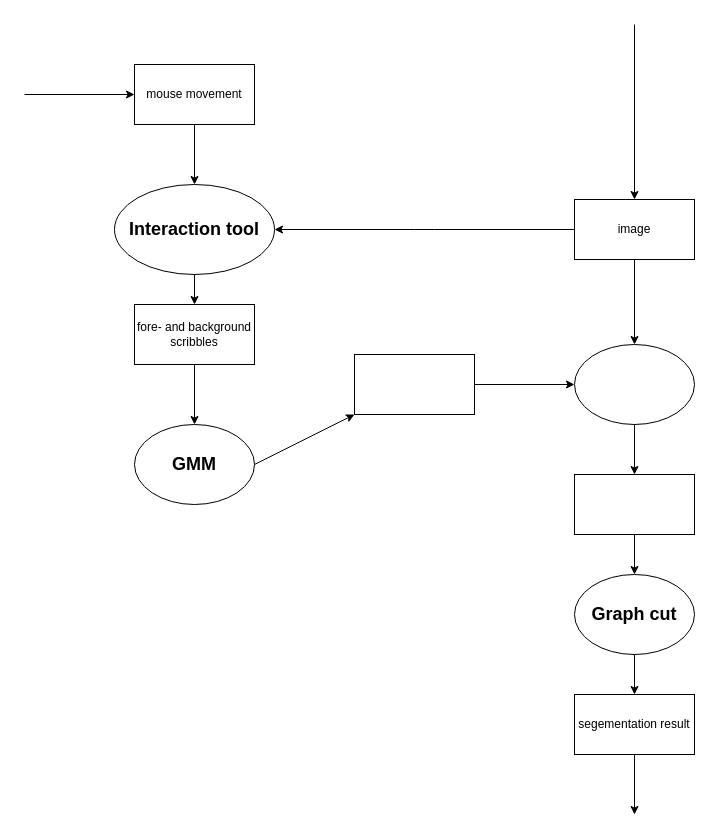
Some shapes in this 712 by 840 pixel diagram are drawn without their labels. The shapes that lost their labels are listed below. From the top down, each one's box as (x1, y1, x2, y2) in pixels, then its label:
(354, 354, 474, 414): two gaussian distribution
(574, 344, 694, 424): Image Graph
(574, 474, 694, 534): weighted graph
